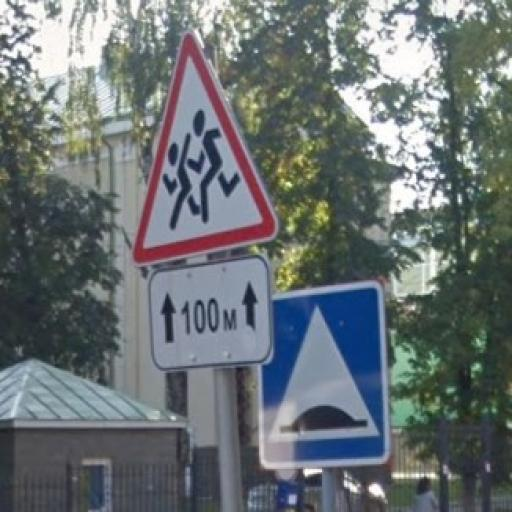traffic_sign: (134, 31, 279, 271), (254, 279, 394, 470)
